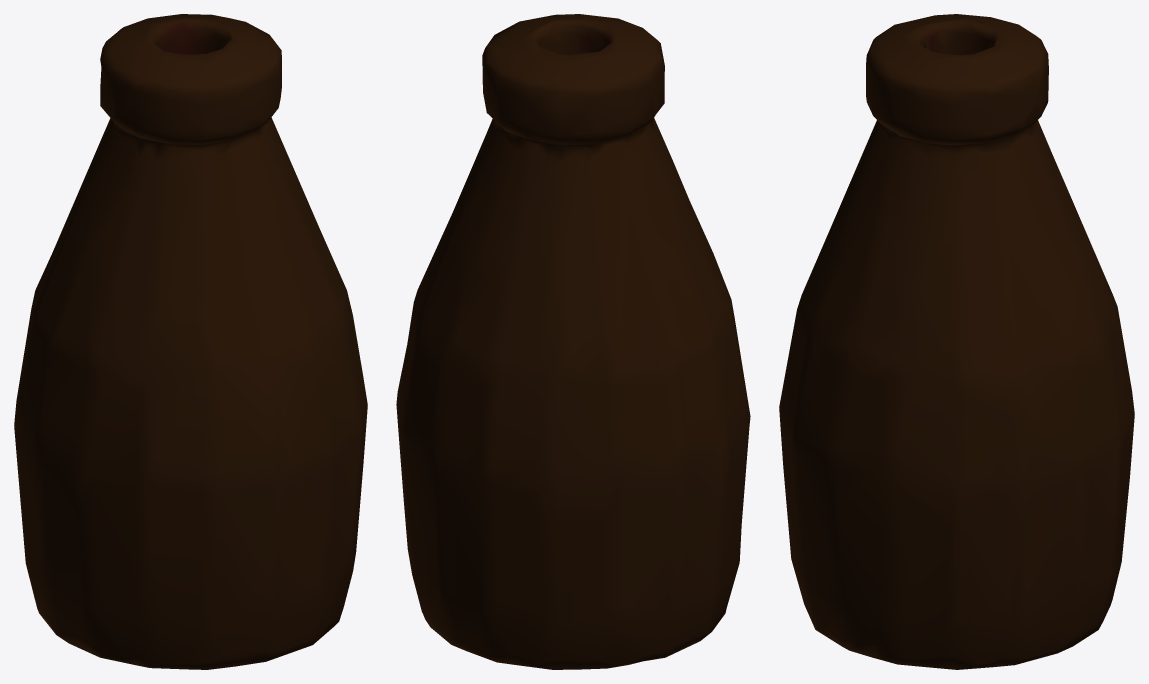
File: gen3d-iron-cannonball-lod0.glb
The picture shows the model from 3 angles, left to right: view 1: azimuth 30°, elevation 25°; view 2: azimuth 150°, elevation 25°; view 3: azimuth 270°, elevation 25°; orthographic projection.
Visible parts, largest first — view 1: part_0; view 2: part_0; view 3: part_0.
Part boxes in pixels (left/top/right/bottom): part_0: left=14, top=14, right=367, bottom=669; part_0: left=396, top=14, right=750, bottom=669; part_0: left=779, top=14, right=1134, bottom=669.
Bounding box in the file's own units: 0.5688 × 1 × 0.5671.
